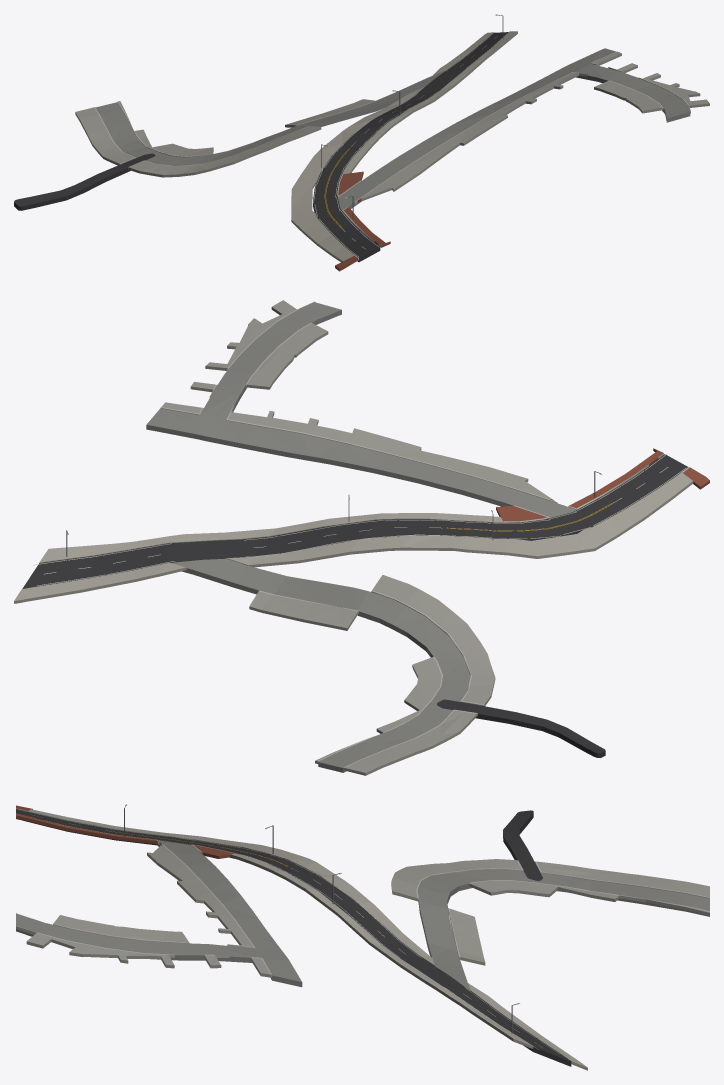
Rendered from 18-218898-118954.6bbabbb5.glb.
3 views of the same model, one above another, from view 1: azimuth 30°, elevation 25°; view 2: azimuth 150°, elevation 25°; view 3: azimuth 270°, elevation 25° (orthographic). The views are drawn at different scales.
Size of the model in its own units: 148 by 38.78 by 146.
